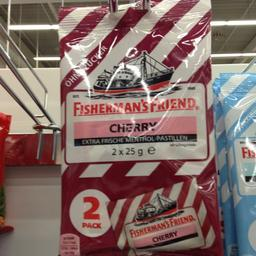candy: (58, 2, 212, 252), (212, 68, 254, 250)
